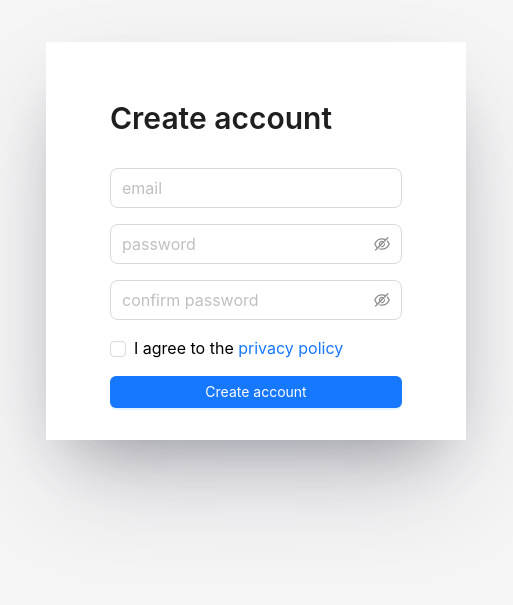
Test: Validation errors unit tests › Show invalid email error message
Expected: the text "Invalid email" is not shown
Type "bademail.com" into the field with placeholder "email" at (256, 188), box 110,168 -> 402,208
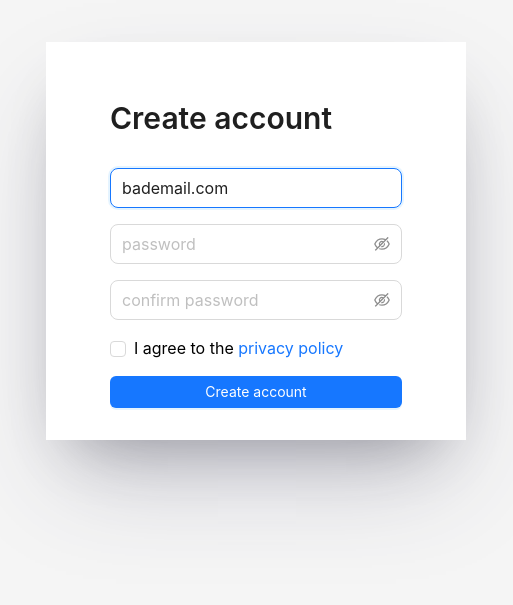
Click the button "Create account" at (256, 392), box 110,376 -> 402,408
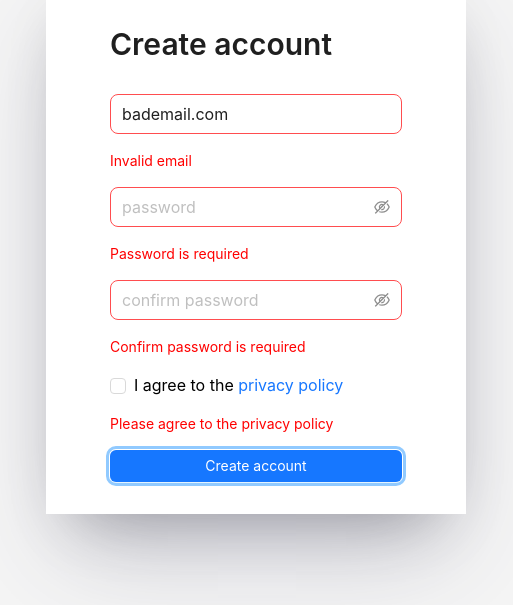
Now the text "Invalid email" is shown, box 110,152 -> 192,169
